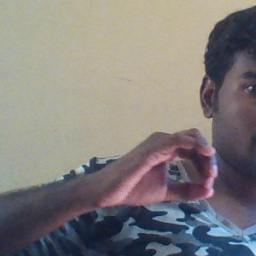O: (96, 124, 222, 211)
